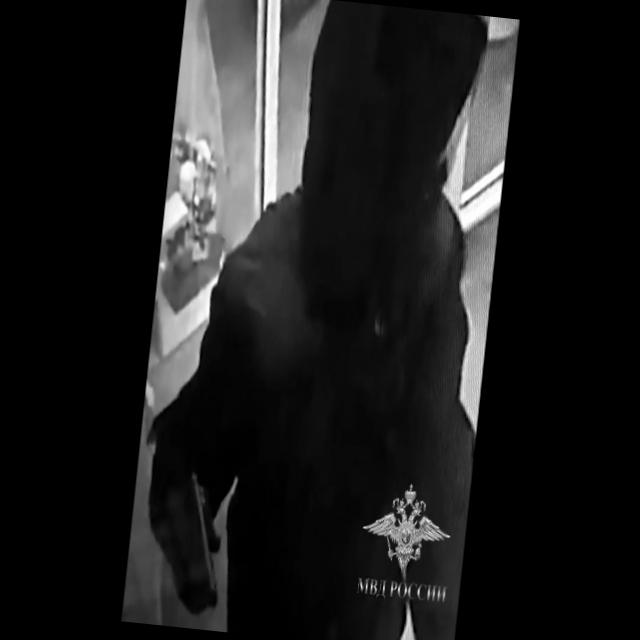gun: (162, 468, 235, 618)
person with a gun: (143, 0, 524, 640)
